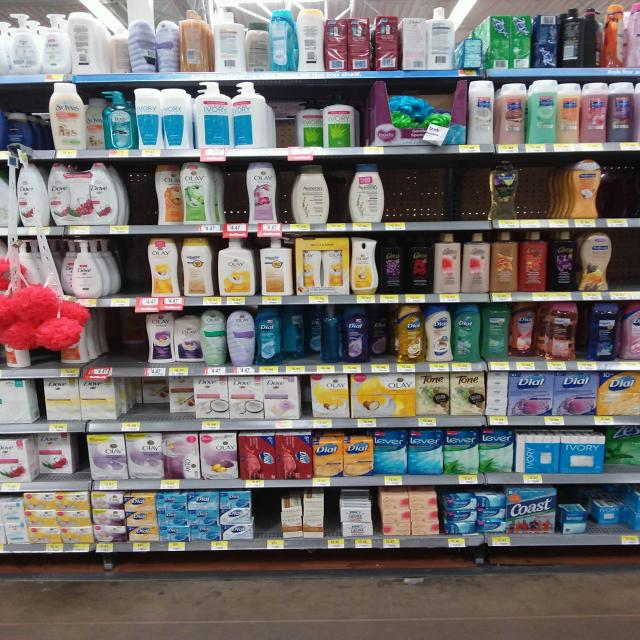empty: (388, 164, 487, 223), (105, 307, 145, 365), (603, 158, 639, 219), (521, 159, 552, 218), (119, 237, 147, 297), (613, 232, 640, 293), (129, 166, 155, 225), (253, 491, 279, 539), (224, 164, 245, 223), (329, 165, 350, 223), (275, 97, 296, 147), (326, 489, 339, 538), (36, 114, 50, 150)
